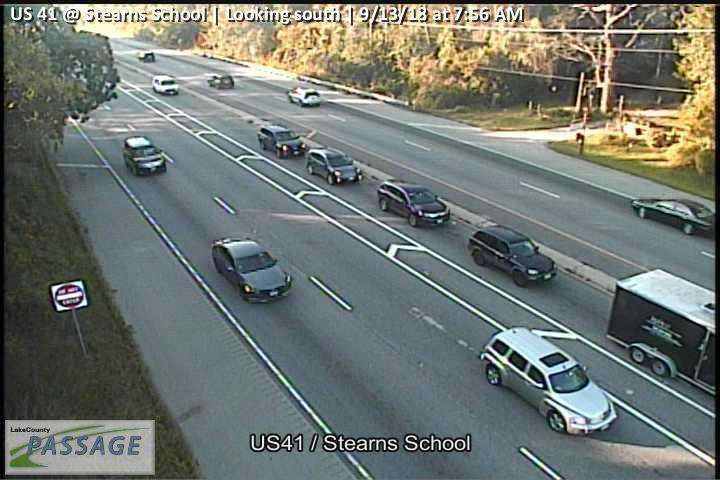SUV: (478, 325, 617, 435), (466, 225, 557, 288), (211, 237, 293, 303), (378, 178, 451, 227), (305, 146, 364, 185), (123, 135, 167, 176), (257, 124, 306, 159), (287, 86, 321, 106), (151, 74, 179, 95), (207, 73, 235, 90)
Sedan: (631, 196, 714, 235)
Truck: (605, 267, 716, 395)
